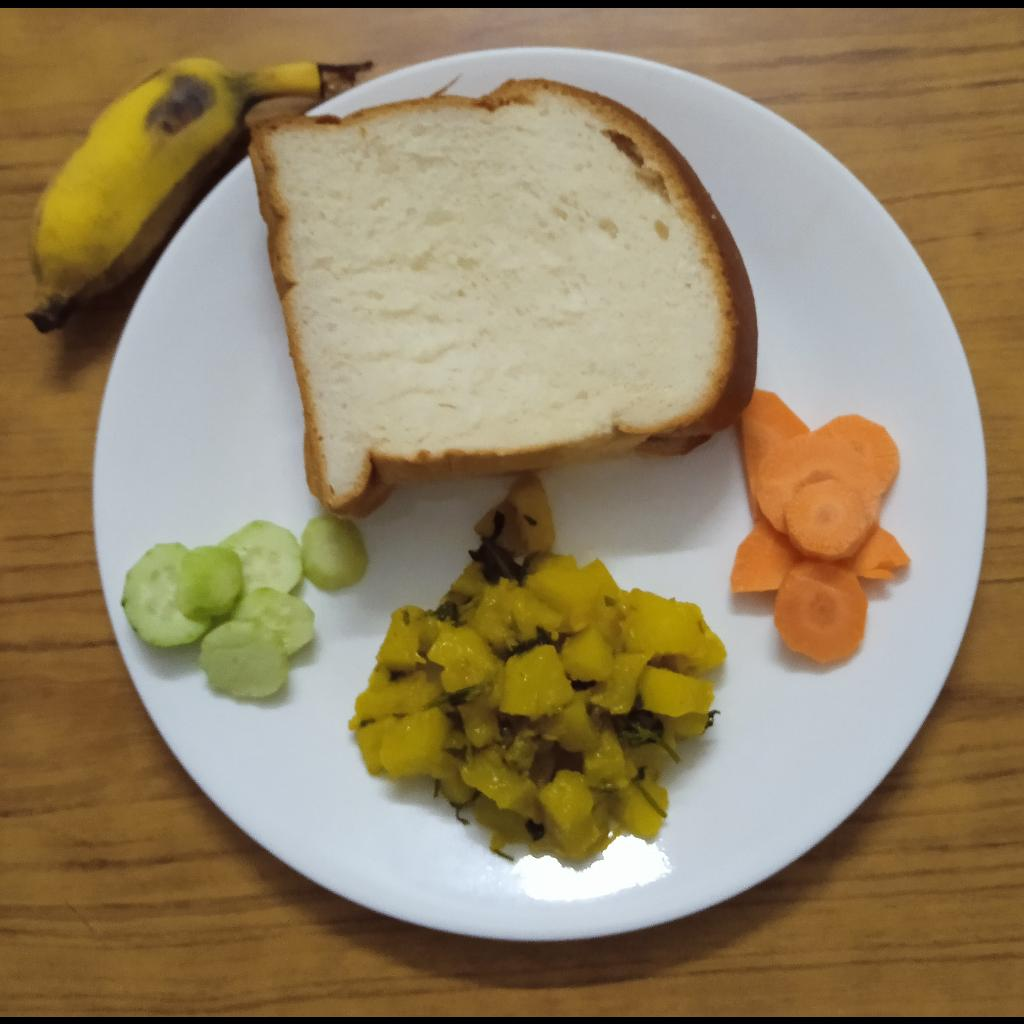banana: (27, 56, 374, 333)
bread: (246, 76, 758, 516)
carrot: (731, 390, 912, 662)
cucumber: (123, 515, 370, 696)
vegetable: (346, 476, 732, 872)
